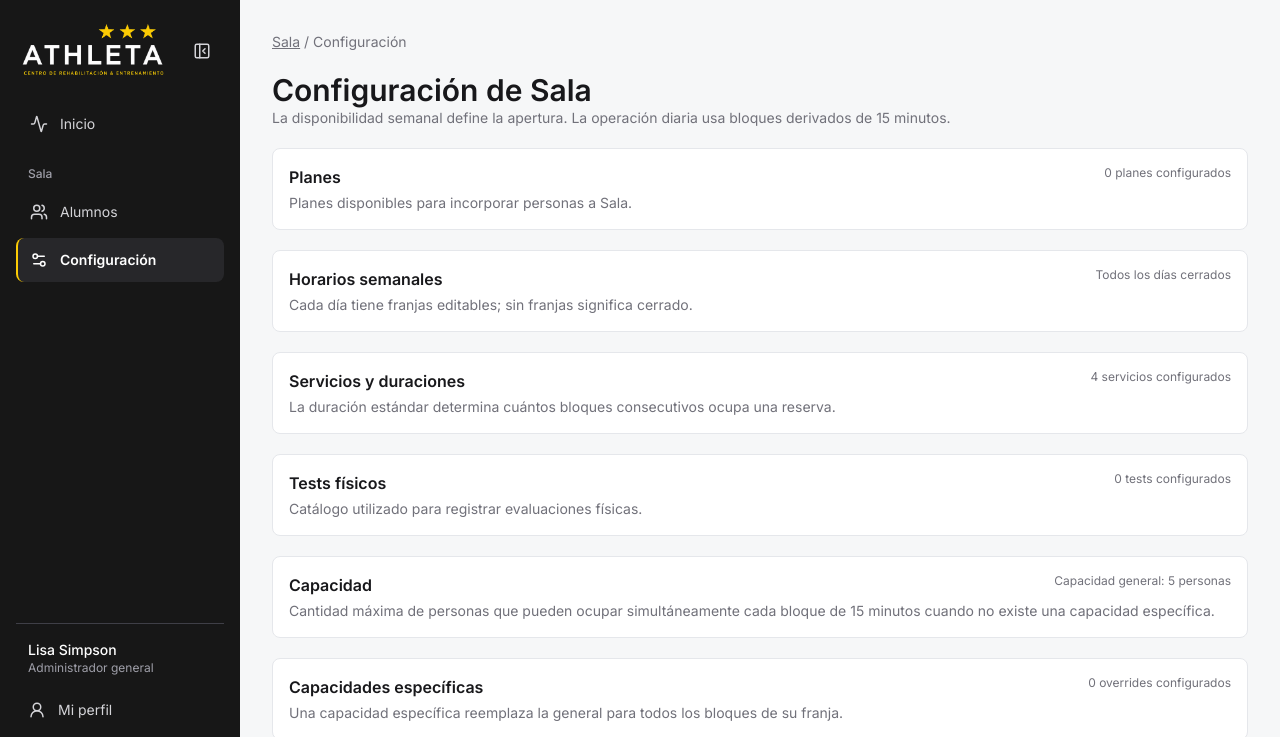
Test case: shows the physical tests section and its empty state
Click the heading "Tests físicos" at (338, 483), box [289,471,386,495]
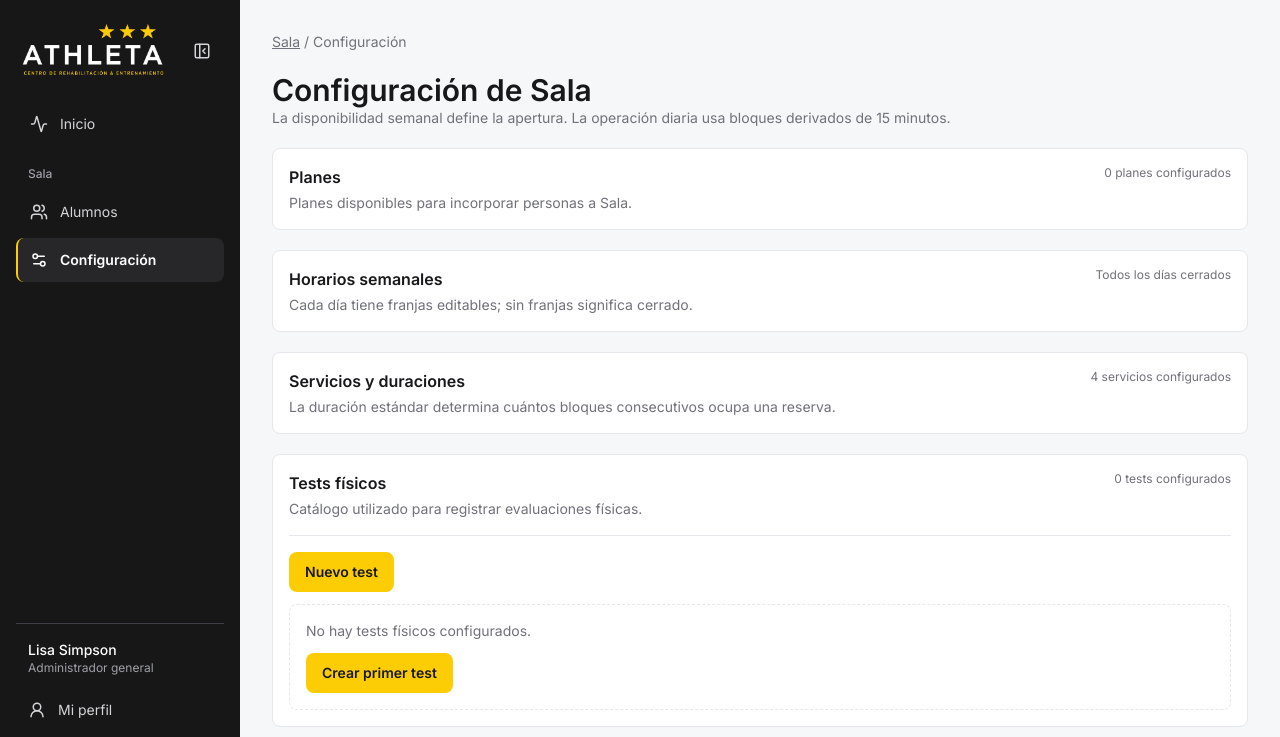
Now the text "No hay tests físicos configurados." is shown, box [306,622,531,639]
Now the button "Crear primer test" is shown, box [306,653,453,693]
